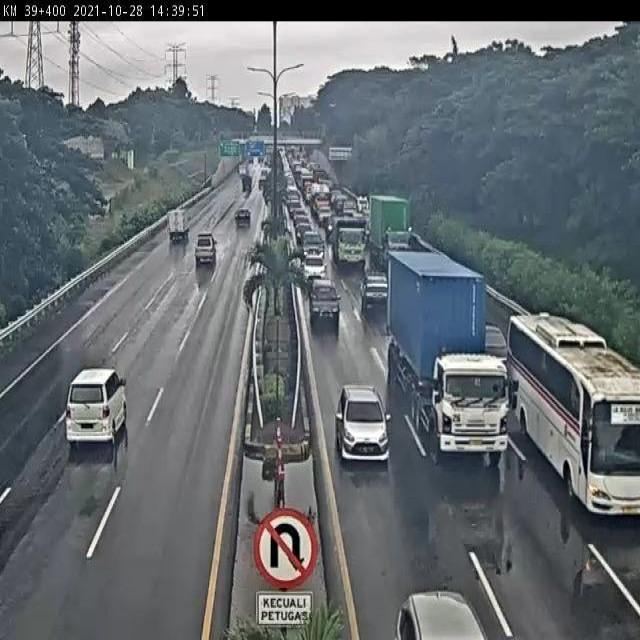big bus: (506, 314, 640, 514)
big truck: (387, 251, 509, 457)
car: (65, 368, 128, 447), (334, 382, 390, 469), (308, 276, 343, 325), (481, 320, 509, 365), (361, 270, 390, 310), (302, 250, 327, 282), (194, 233, 218, 264), (235, 208, 253, 231)
mid truck: (330, 216, 368, 271)
small truck: (168, 210, 189, 242)
